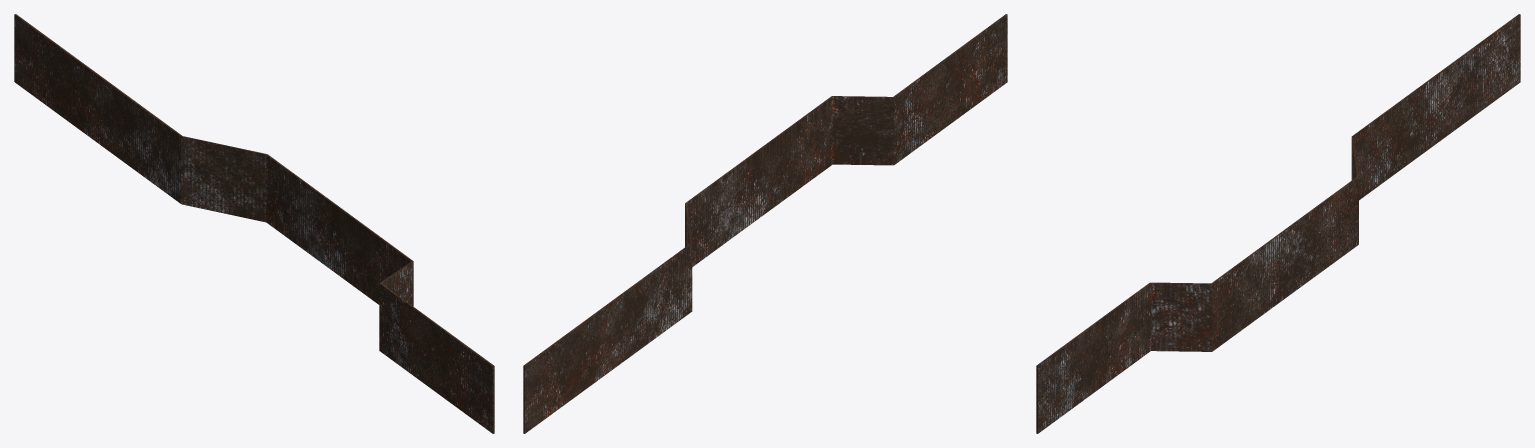
Rendered from Valla2.obj.
3 views of the same model, side by side, from view 1: azimuth 30°, elevation 25°; view 2: azimuth 150°, elevation 25°; view 3: azimuth 330°, elevation 25° (orthographic).
Parts seen in each view (by area): view 1: Valla2; view 2: Valla2; view 3: Valla2.
Part boxes in pixels (<box>): Valla2: <box>14,14,494,433</box>; Valla2: <box>523,14,1007,433</box>; Valla2: <box>1036,14,1520,433</box>.
Size of the model in its own units: 12.41 by 16.62 by 214.
1 material, 1 textured.
